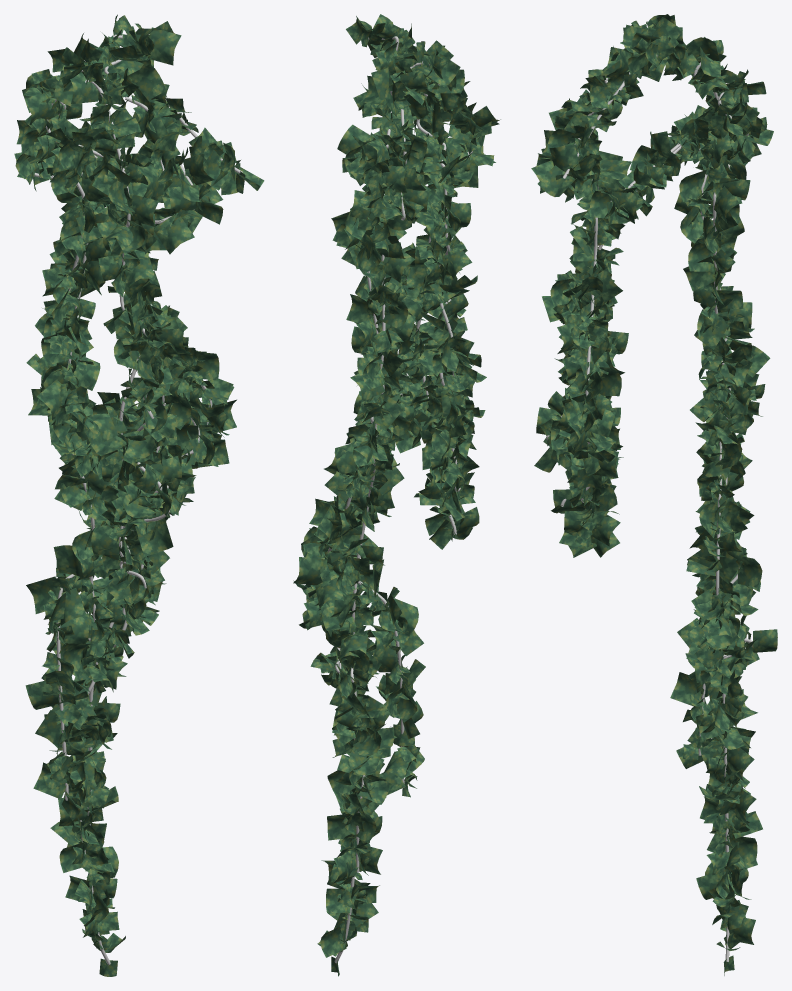
Rendered from SM_Ivy_12.fbx.
3 views of the same model, side by side, from view 1: azimuth 30°, elevation 25°; view 2: azimuth 150°, elevation 25°; view 3: azimuth 270°, elevation 25° (orthographic). The views are drawn at different scales.
Parts seen in each view (by area): view 1: SM_Ivy_12_LOD0; view 2: SM_Ivy_12_LOD0; view 3: SM_Ivy_12_LOD0.
Part boxes in pixels (x1,y1,x2,y2): SM_Ivy_12_LOD0: (14,14,264,976); SM_Ivy_12_LOD0: (293,14,500,976); SM_Ivy_12_LOD0: (531,14,777,975).
Size of the model in its own units: 103 by 142 by 602.
Materials: 2 (1 with a texture image).
